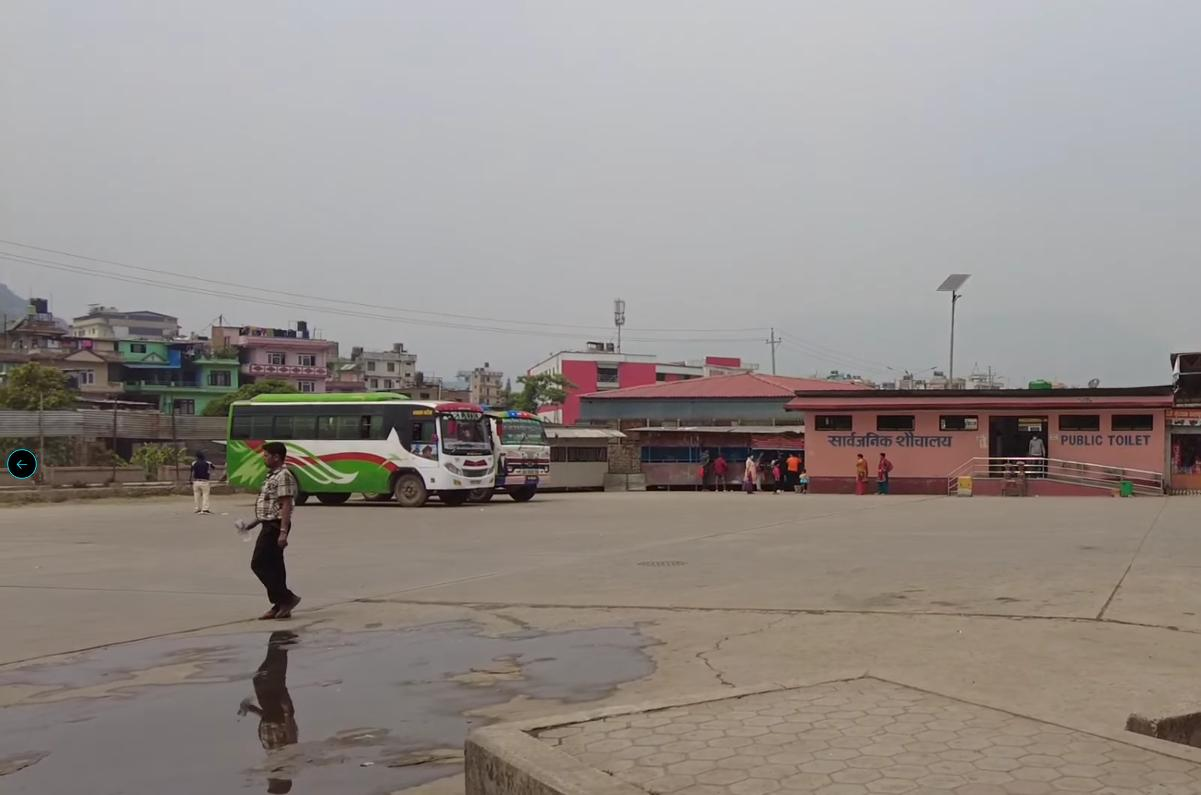bus: (218, 371, 502, 536), (486, 400, 553, 504)
